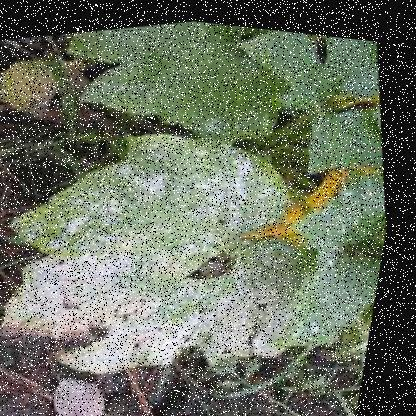PowderyMildew: (28, 128, 313, 341)
